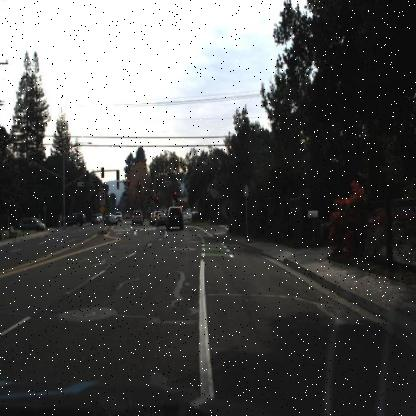car: (164, 204, 184, 233), (19, 214, 46, 234), (62, 210, 84, 229), (131, 209, 143, 226), (103, 214, 118, 226)
trafficLight-Red: (154, 193, 160, 206), (126, 176, 131, 190), (174, 188, 178, 202), (137, 180, 141, 192)
